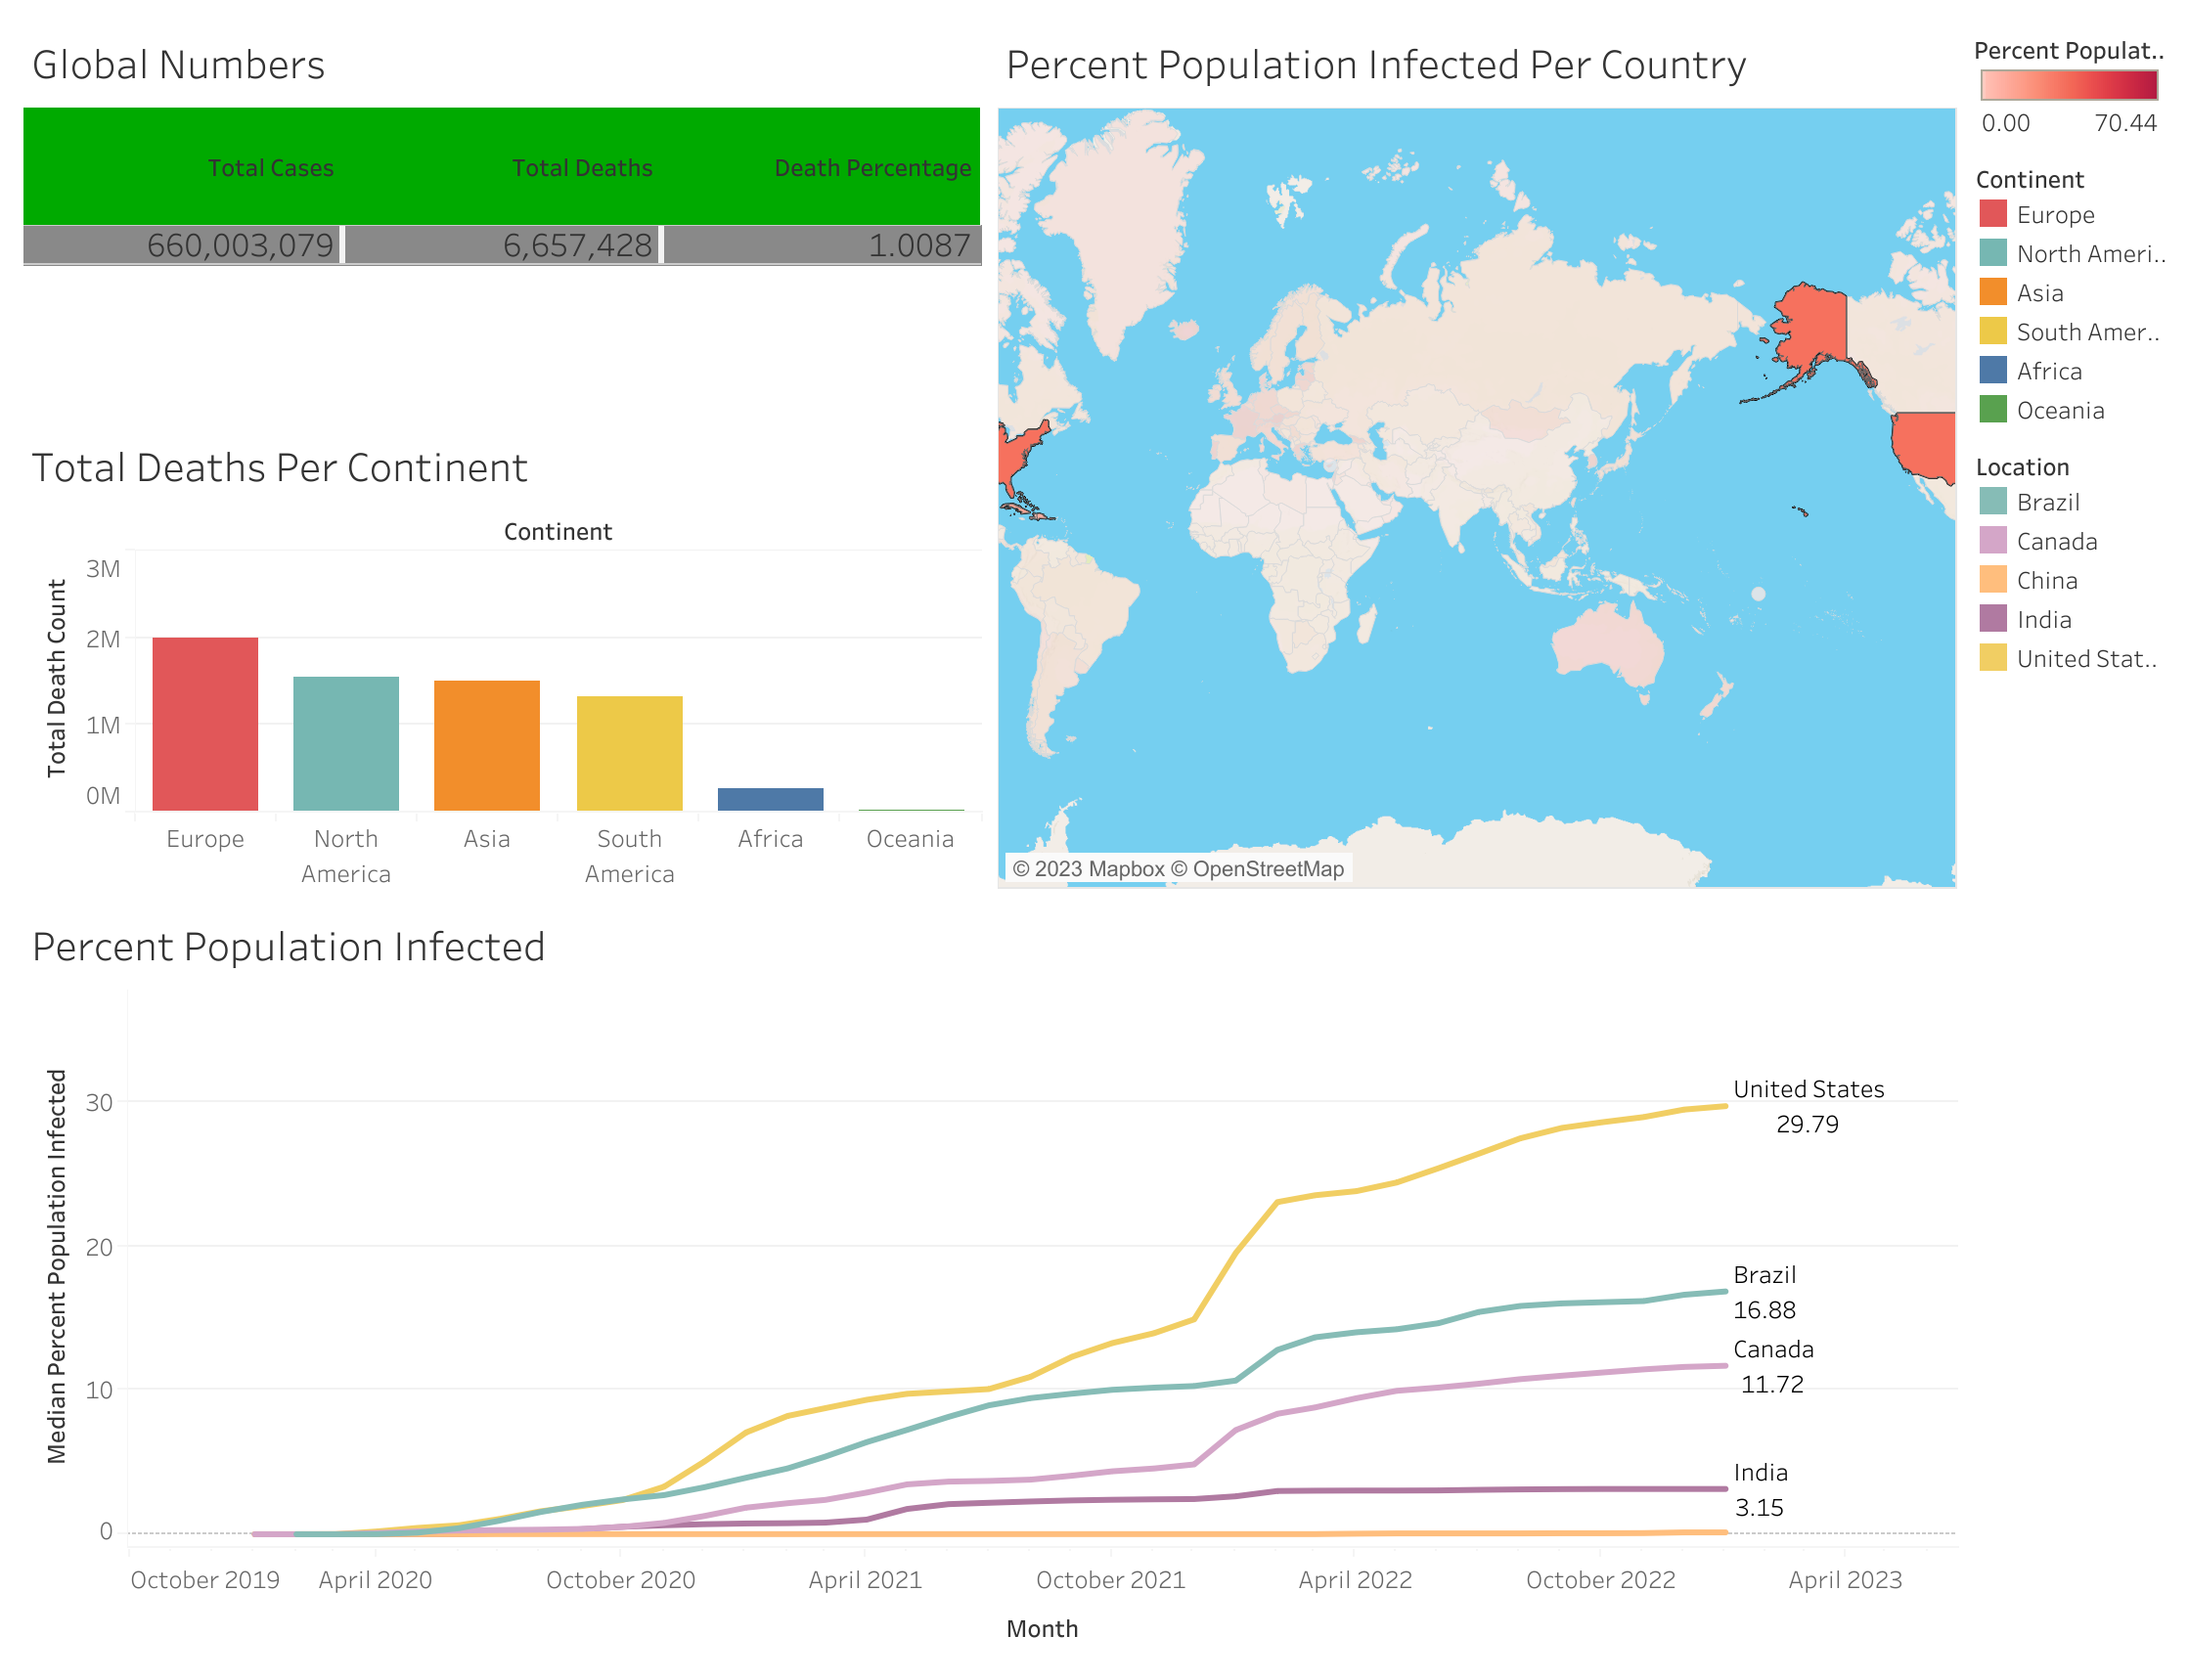

The page's visual inventory and layout, read from the dashboard file:
{"tool":"tableau","page":{"name":"Dashboard 1","canvas":[1000,1000],"units":"permille","ordinal":0},"visuals":[{"type":"worksheet","title":"Sheet 1","mark":"Automatic","box":[7.1,13.5,445.1,237.8]},{"type":"worksheet","title":"Sheet 3","mark":"Automatic","box":[452.2,13.5,445.1,519.4]},{"type":"legend","title":"Sheet 3","param":"[federated.1ahndve136rg0818xaux40muknkc].[sum:PercentPopulationInfected:qk]","box":[897.3,13.5,95.5,109.6]},{"type":"legend","title":"Sheet 2","param":"[federated.0wols6y14q8w301e8vi5l1skju10].[none:location:nk]","box":[897.3,123.1,95.5,246.2]},{"type":"worksheet","title":"Sheet 2","mark":"Automatic","rows":["TotalDeathCount"],"cols":["location"],"box":[7.1,251.3,445.1,281.6]},{"type":"legend","title":"Sheet 4","param":"[federated.0f215wp04d95pd1a0k5no0uh5jpd].[none:Location:nk]","box":[897.3,369.3,95.5,563.2]},{"type":"worksheet","title":"Sheet 4","mark":"Automatic","rows":["PercentPopulationInfected"],"cols":["date"],"box":[7.1,532.9,890.2,453.6]}]}

Visuals, with their boxes on the dashboard's canvas, which has no fixed pixel size, in thousandths of its width and height (x1, y1, x2, y2). These are canvas units, not pixel positions in the 2189x1680 screenshot, which may show the page scaled, cropped or inside an application window:
"Sheet 1" worksheet: select_region(7, 14, 452, 251)
"Sheet 3" worksheet: select_region(452, 14, 897, 533)
"Sheet 3" legend: select_region(897, 14, 993, 123)
"Sheet 2" legend: select_region(897, 123, 993, 369)
"Sheet 2" worksheet: select_region(7, 251, 452, 533)
"Sheet 4" legend: select_region(897, 369, 993, 932)
"Sheet 4" worksheet: select_region(7, 533, 897, 986)
